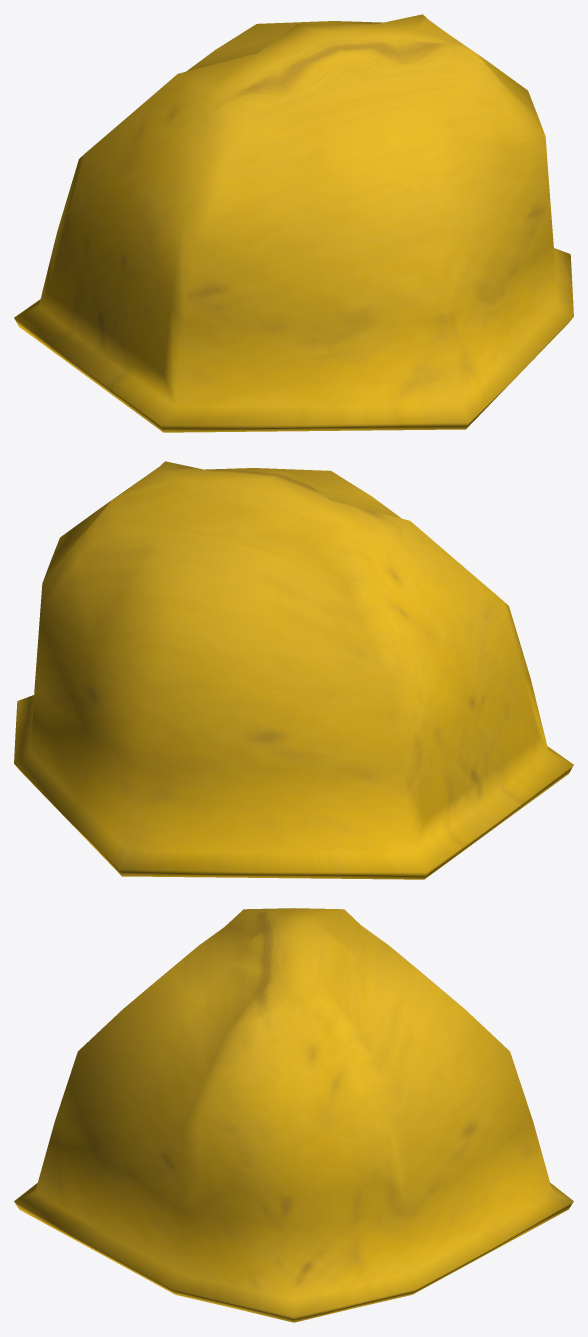
The model's file is Hard_Hat.glb.
3 renders of one model, top to bottom at view 1: azimuth 30°, elevation 25°; view 2: azimuth 150°, elevation 25°; view 3: azimuth 270°, elevation 25°, orthographic. The views are drawn at different scales.
Parts seen in each view (by area): view 1: Hard Hat; view 2: Hard Hat; view 3: Hard Hat.
Boxes of the visible parts, <box> form: Hard Hat: <box>14,14,573,432</box>; Hard Hat: <box>14,461,573,879</box>; Hard Hat: <box>14,908,573,1322</box>.
Bounding box in the file's own units: 2.48 × 1.42 × 2.62.
Materials: 1 (1 with a texture image).
